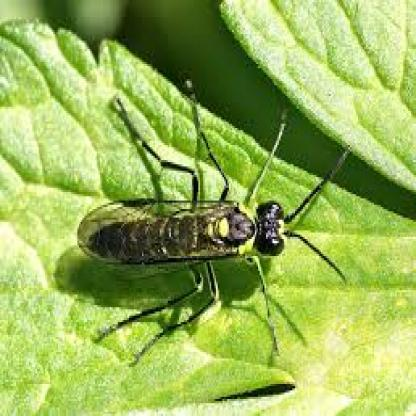sawfly: (72, 83, 356, 355)
